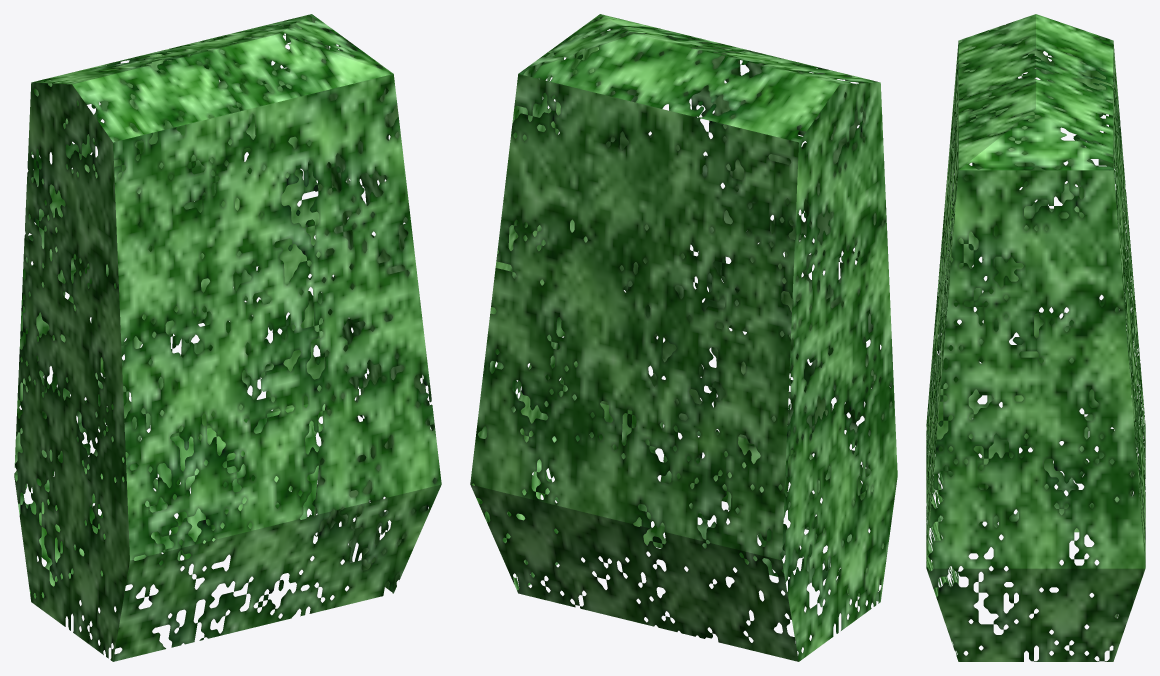
Rendered from bush_tall_half_open_right_spring.fbx.
3 views of the same model, side by side, from view 1: azimuth 30°, elevation 25°; view 2: azimuth 150°, elevation 25°; view 3: azimuth 270°, elevation 25° (orthographic). The views are drawn at different scales.
Visible parts, largest first — view 1: bush_tall_half_open_right_spring; view 2: bush_tall_half_open_right_spring; view 3: bush_tall_half_open_right_spring.
Part boxes in pixels (bbox=[...]): bush_tall_half_open_right_spring: bbox=[14, 14, 441, 661]; bush_tall_half_open_right_spring: bbox=[470, 14, 897, 661]; bush_tall_half_open_right_spring: bbox=[926, 14, 1145, 661].
Size of the model in its own units: 112 by 188 by 71.91.
Materials: 1 (1 with a texture image).
